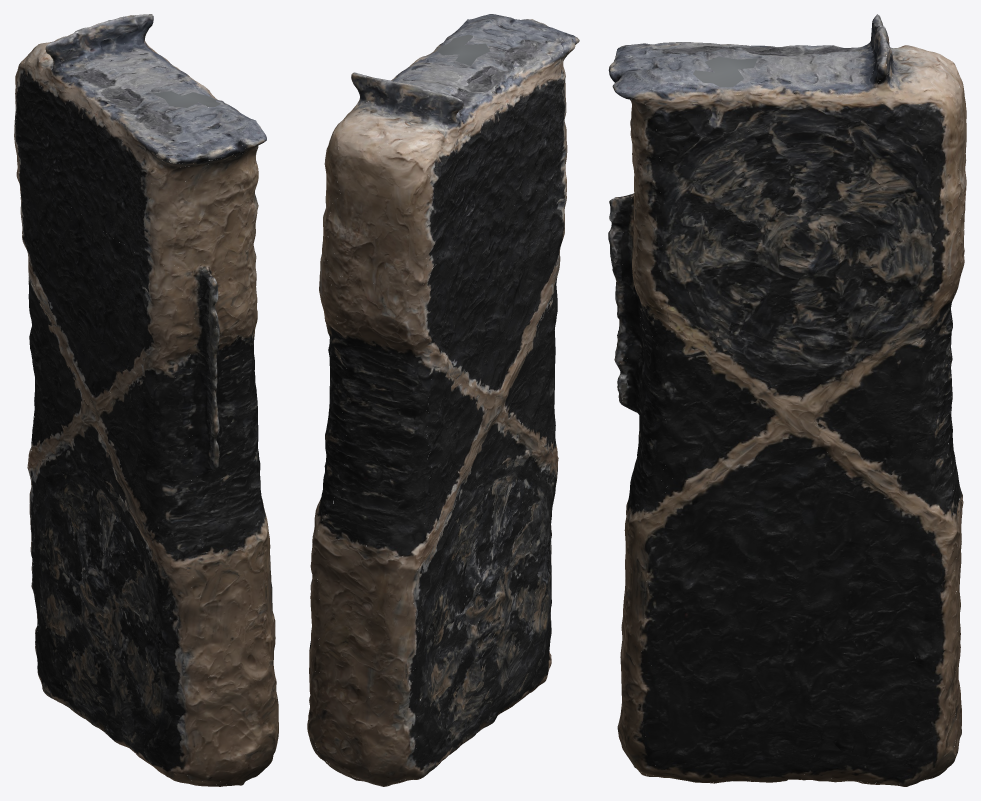
File: gpu.glb
3 renders of one model, left to right at view 1: azimuth 30°, elevation 25°; view 2: azimuth 150°, elevation 25°; view 3: azimuth 270°, elevation 25°, orthographic. The views are drawn at different scales.
Visible parts, largest first — view 1: Mesh_0_Part_0; view 2: Mesh_0_Part_0; view 3: Mesh_0_Part_0.
Part boxes in pixels (x1,y1,x2,y2): Mesh_0_Part_0: [14, 14, 278, 786]; Mesh_0_Part_0: [307, 14, 579, 786]; Mesh_0_Part_0: [608, 14, 966, 786].
Bounding box in the file's own units: 0.9687 × 4.72 × 2.12.
1 material, 1 textured.
